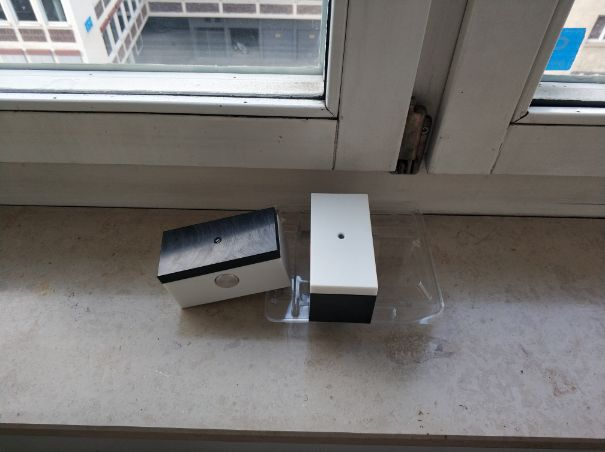black+white+silver: (155, 205, 294, 312)
